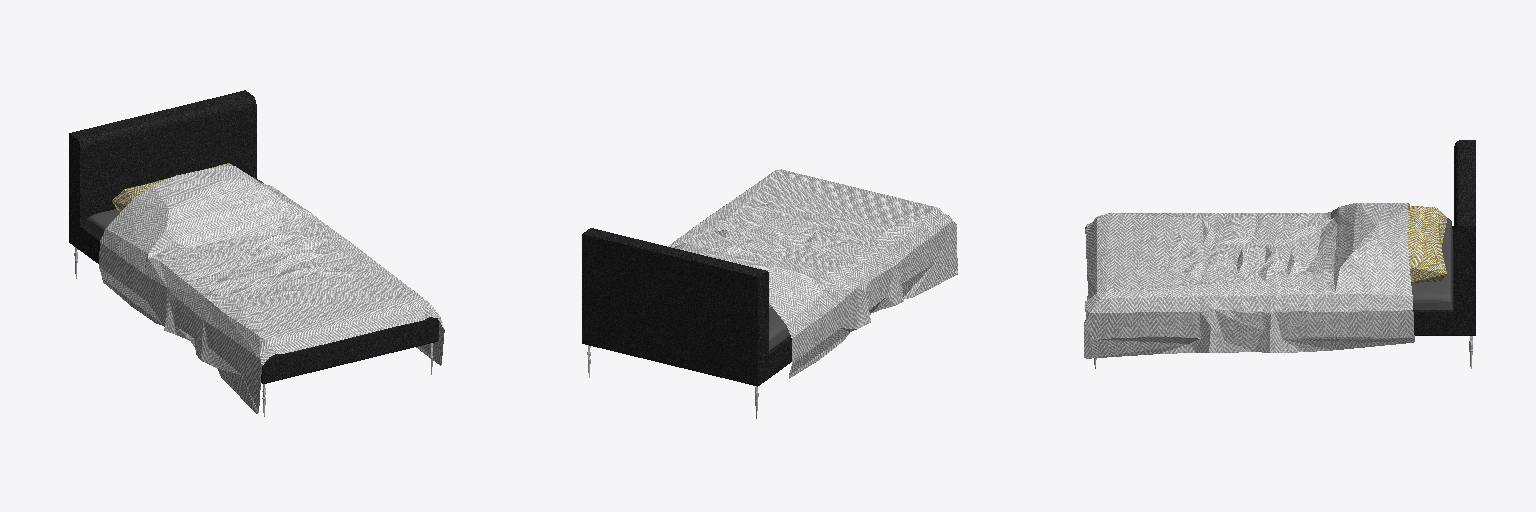
The picture shows the model from 3 angles: view 1: azimuth 30°, elevation 25°; view 2: azimuth 150°, elevation 25°; view 3: azimuth 270°, elevation 25°; orthographic projection.
Parts seen in each view (by area): view 1: blanket_Plane, bed_frame_Cube.001, matress_Cube.002; view 2: blanket_Plane, bed_frame_Cube.001, matress_Cube.002; view 3: blanket_Plane, bed_frame_Cube.001, pillow_Cube.006, matress_Cube.002.
Boxes of the visible parts, box(x1,y1,x2,y2) form: blanket_Plane: box(99, 166, 444, 413); bed_frame_Cube.001: box(69, 90, 438, 383); matress_Cube.002: box(86, 177, 263, 237); blanket_Plane: box(668, 169, 957, 378); bed_frame_Cube.001: box(582, 228, 791, 386); matress_Cube.002: box(769, 307, 789, 350); blanket_Plane: box(1084, 203, 1414, 358); bed_frame_Cube.001: box(1413, 140, 1475, 335); pillow_Cube.006: box(1407, 206, 1446, 282); matress_Cube.002: box(1411, 218, 1452, 309).
Bounding box in the file's own units: 1.11 × 0.7875 × 1.94.
Materials: 5 (4 with a texture image).